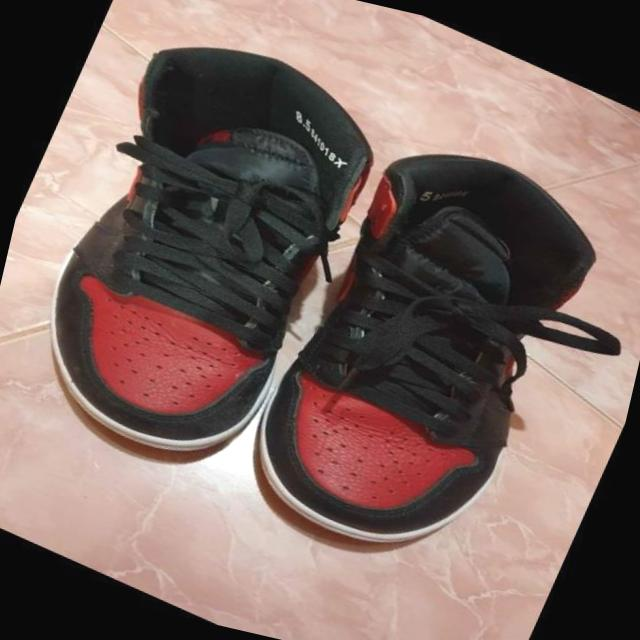nike_original_jordan: (210, 95, 638, 608), (0, 0, 410, 525)
